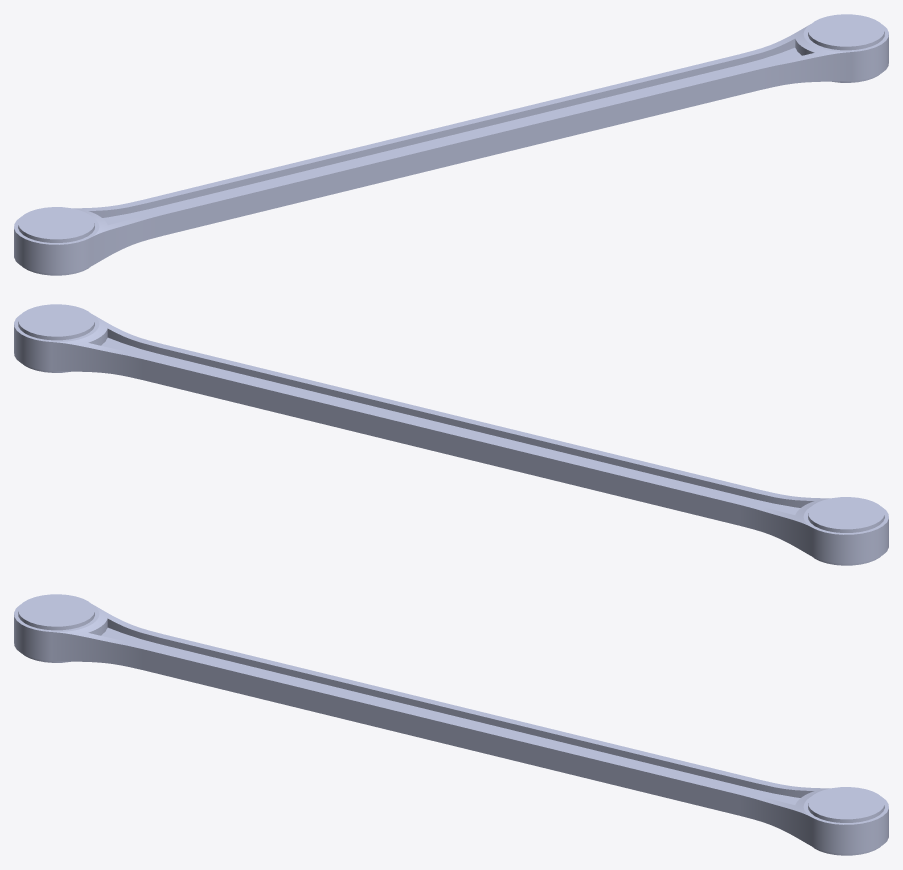
File: IRB460_UPPER_LINK.glb
3 renders of one model, top to bottom at view 1: azimuth 30°, elevation 25°; view 2: azimuth 150°, elevation 25°; view 3: azimuth 330°, elevation 25°, orthographic.
Parts seen in each view (by area): view 1: IRB460_UPPER_LINK; view 2: IRB460_UPPER_LINK; view 3: IRB460_UPPER_LINK.
Part boxes in pixels (x1,y1,x2,y2): IRB460_UPPER_LINK: (14, 14, 888, 275); IRB460_UPPER_LINK: (14, 304, 888, 565); IRB460_UPPER_LINK: (14, 594, 888, 855).
Bounding box in the file's own units: 1.12 × 0.045 × 0.096.
